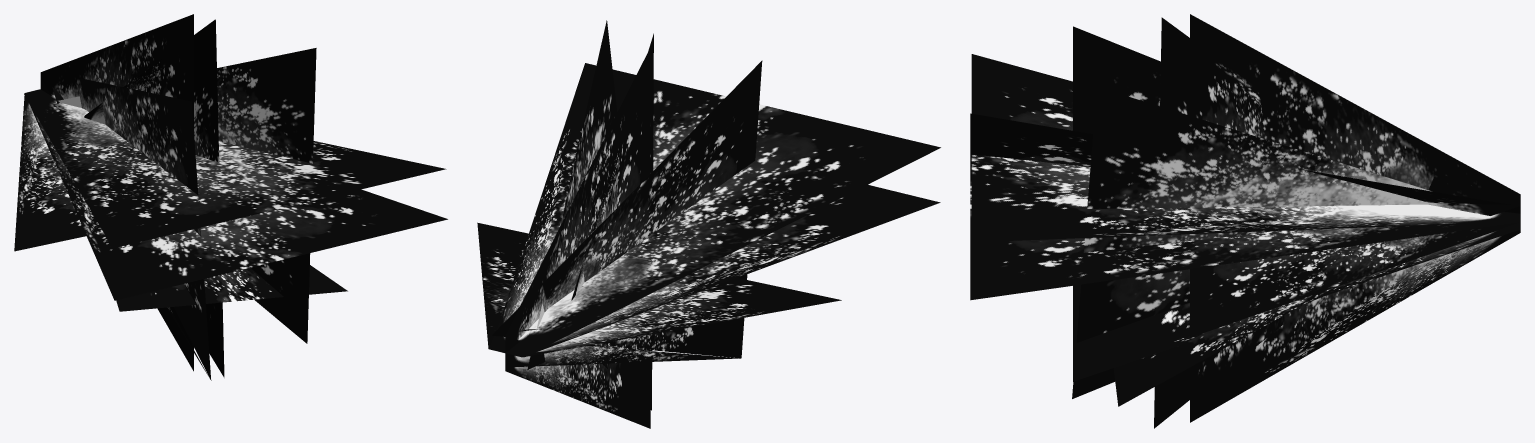
The model's file is SM_Core_01.FBX.
3 renders of one model, left to right at view 1: azimuth 30°, elevation 25°; view 2: azimuth 150°, elevation 25°; view 3: azimuth 270°, elevation 25°, orthographic. The views are drawn at different scales.
Parts seen in each view (by area): view 1: Core_01; view 2: Core_01; view 3: Core_01.
Boxes of the visible parts, x1,y1,x2,y2 form: Core_01: (14, 14, 447, 380); Core_01: (477, 20, 940, 428); Core_01: (970, 14, 1520, 428).
Size of the model in its own units: 45.21 by 45.43 by 55.17.
